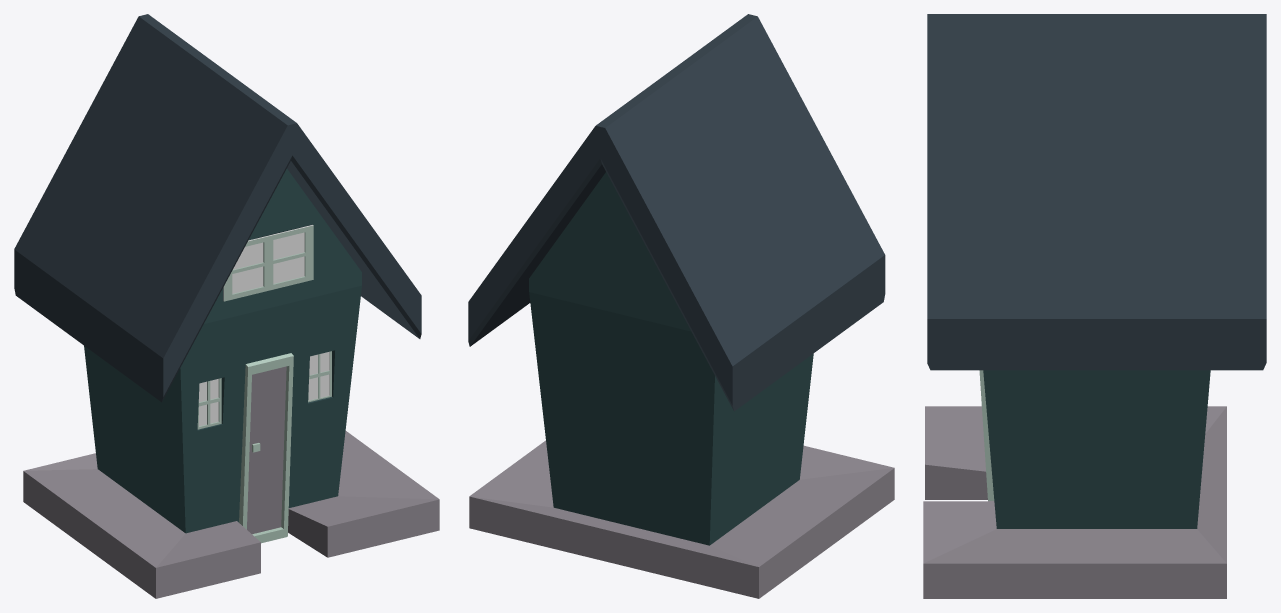
Rendered from HOUSE TALL (GREEN).fbx.
3 renders of one model, left to right at view 1: azimuth 30°, elevation 25°; view 2: azimuth 150°, elevation 25°; view 3: azimuth 270°, elevation 25°, orthographic. The views are drawn at different scales.
Parts seen in each view (by area): view 1: Roof, House, Door, Front Windows.001, Front Windows; view 2: House, Roof; view 3: Roof, House, Door.
Part boxes in pixels (x1=…): Roof: x1=14, y1=14, x2=421, y2=402; House: x1=23, y1=169, x2=439, y2=598; Door: x1=239, y1=353, x2=293, y2=543; Front Windows.001: x1=223, y1=225, x2=313, y2=301; Front Windows: x1=197, y1=351, x2=331, y2=429; House: x1=469, y1=172, x2=894, y2=598; Roof: x1=468, y1=14, x2=885, y2=411; Roof: x1=927, y1=14, x2=1266, y2=370; House: x1=923, y1=370, x2=1226, y2=598; Door: x1=979, y1=370, x2=994, y2=500.
Bounding box in the file's own units: 1239 × 1841 × 1143.
